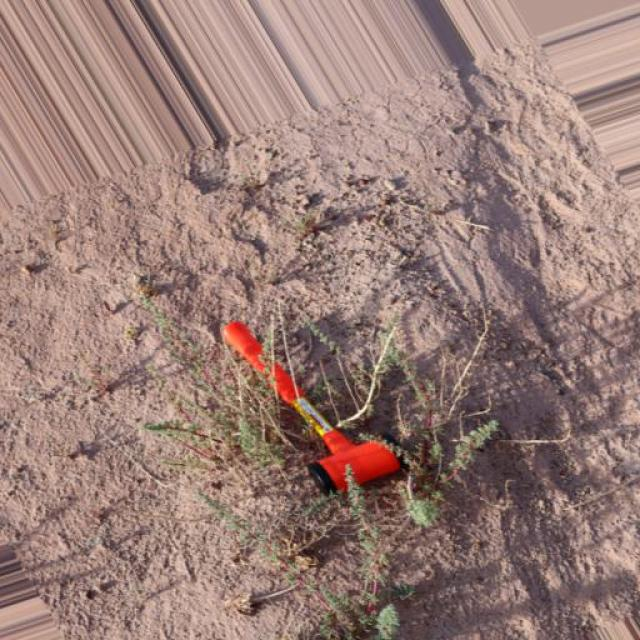mallet: (218, 317, 402, 495)
